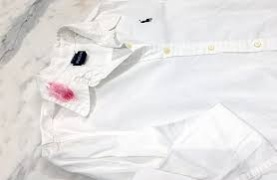lipstick: (46, 80, 77, 109)
